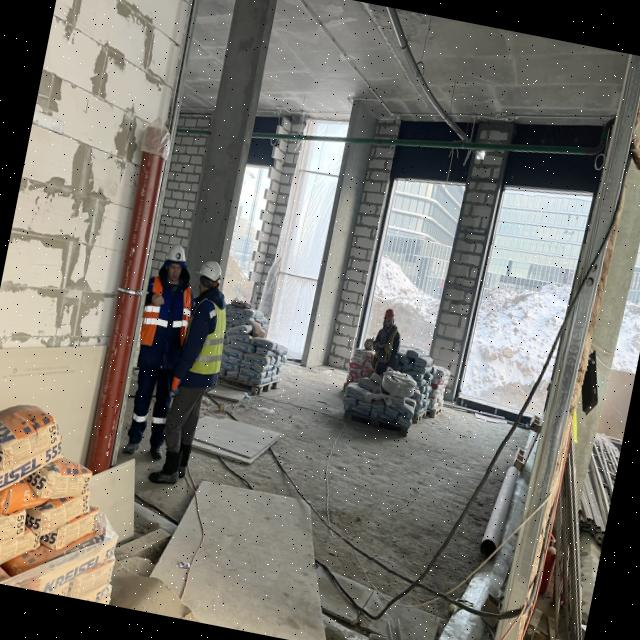Helmet: (197, 259, 226, 284), (167, 244, 189, 266), (384, 309, 397, 322)
Jacket: (140, 278, 196, 354), (183, 297, 232, 379), (375, 329, 400, 363)
